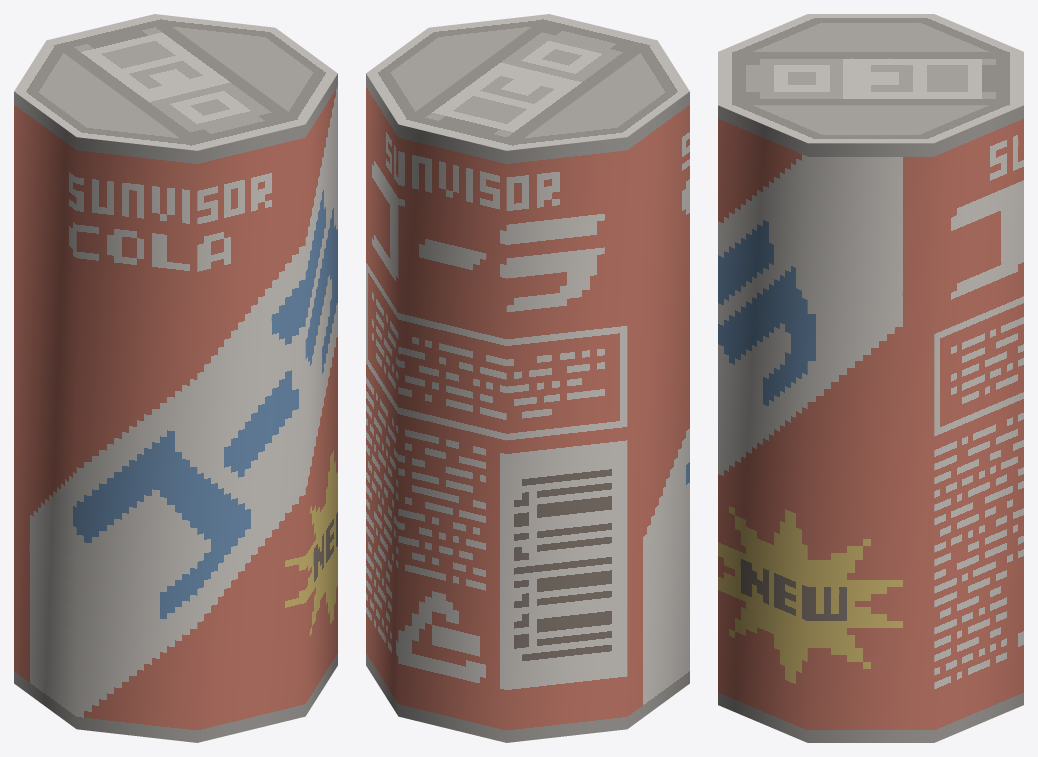
Rendered from 0353_Soda.glb.
3 renders of one model, left to right at view 1: azimuth 30°, elevation 25°; view 2: azimuth 150°, elevation 25°; view 3: azimuth 270°, elevation 25°, orthographic.
Visible parts, largest first — view 1: part_0; view 2: part_0; view 3: part_0.
Part boxes in pixels (bbox=[...]): part_0: bbox=[14, 14, 337, 742]; part_0: bbox=[366, 14, 689, 742]; part_0: bbox=[718, 14, 1023, 742].
Bounding box in the file's own units: 0.0554 × 0.12 × 0.0554.
Materials: 1 (1 with a texture image).
